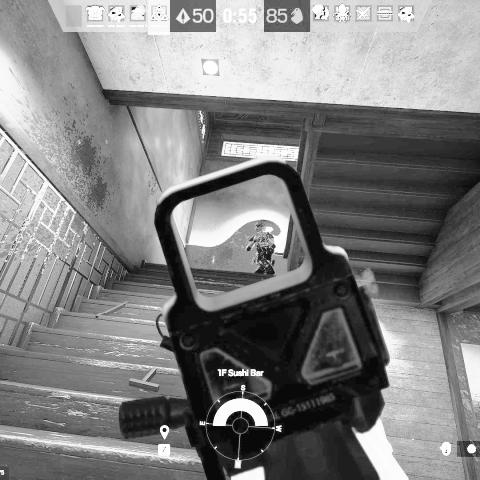Character: (245, 218, 278, 279)
Head: (253, 219, 265, 233)
